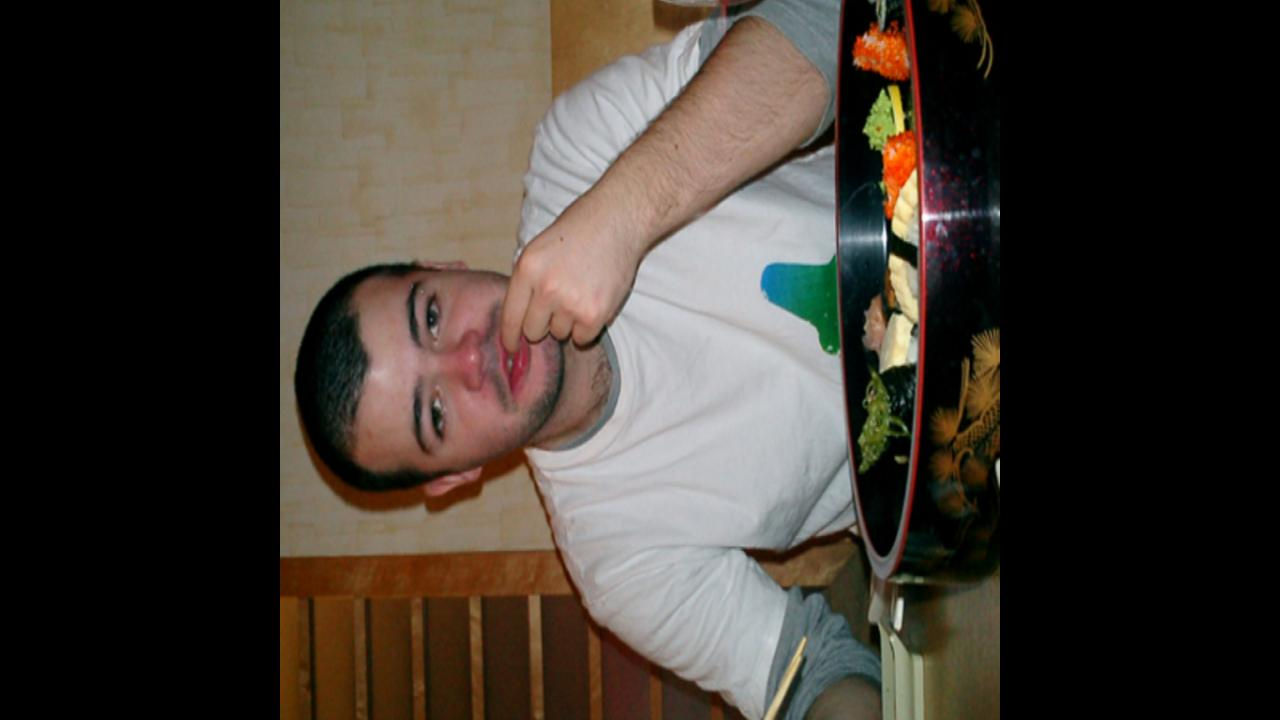chopstick: (662, 631, 812, 720)
